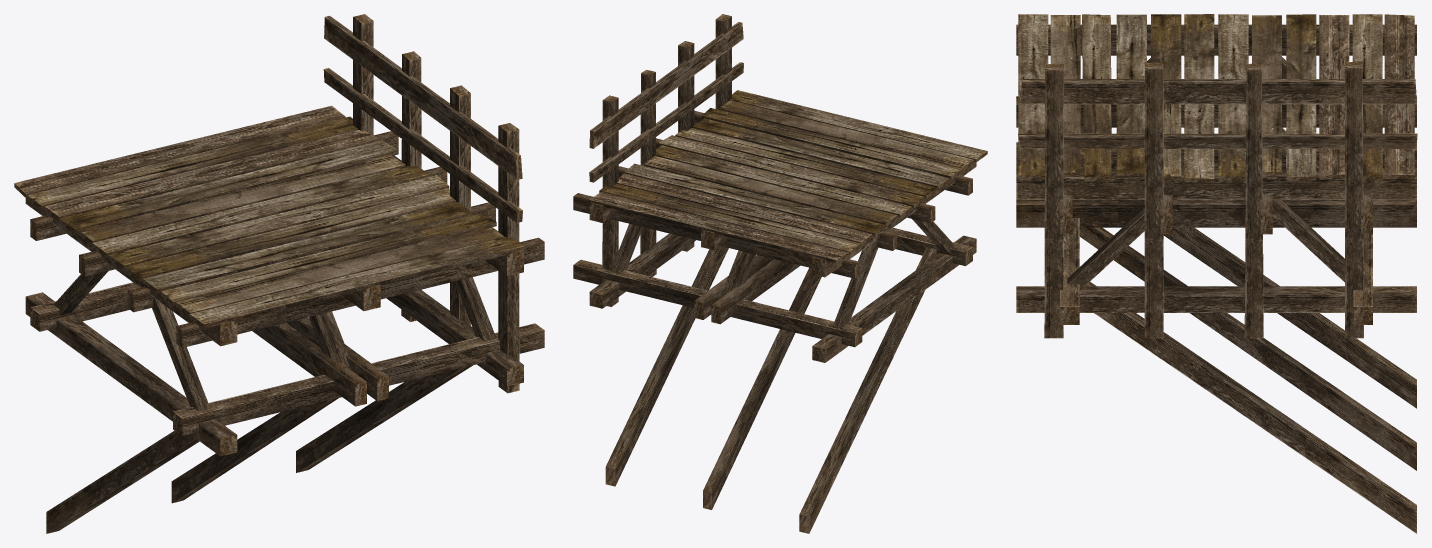
File: WoodBridgeAbutmentRight.dae
3 renders of one model, left to right at view 1: azimuth 30°, elevation 25°; view 2: azimuth 150°, elevation 25°; view 3: azimuth 270°, elevation 25°, orthographic. The views are drawn at different scales.
Visible parts, largest first — view 1: WoodBridgeAbutmentRight; view 2: WoodBridgeAbutmentRight; view 3: WoodBridgeAbutmentRight.
Part boxes in pixels (x1,y1,x2,y2): WoodBridgeAbutmentRight: (14, 14, 544, 533); WoodBridgeAbutmentRight: (573, 14, 987, 533); WoodBridgeAbutmentRight: (1016, 14, 1417, 533).
Size of the model in its own units: 4.3 by 5.31 by 4.01.
1 material, 1 textured.
